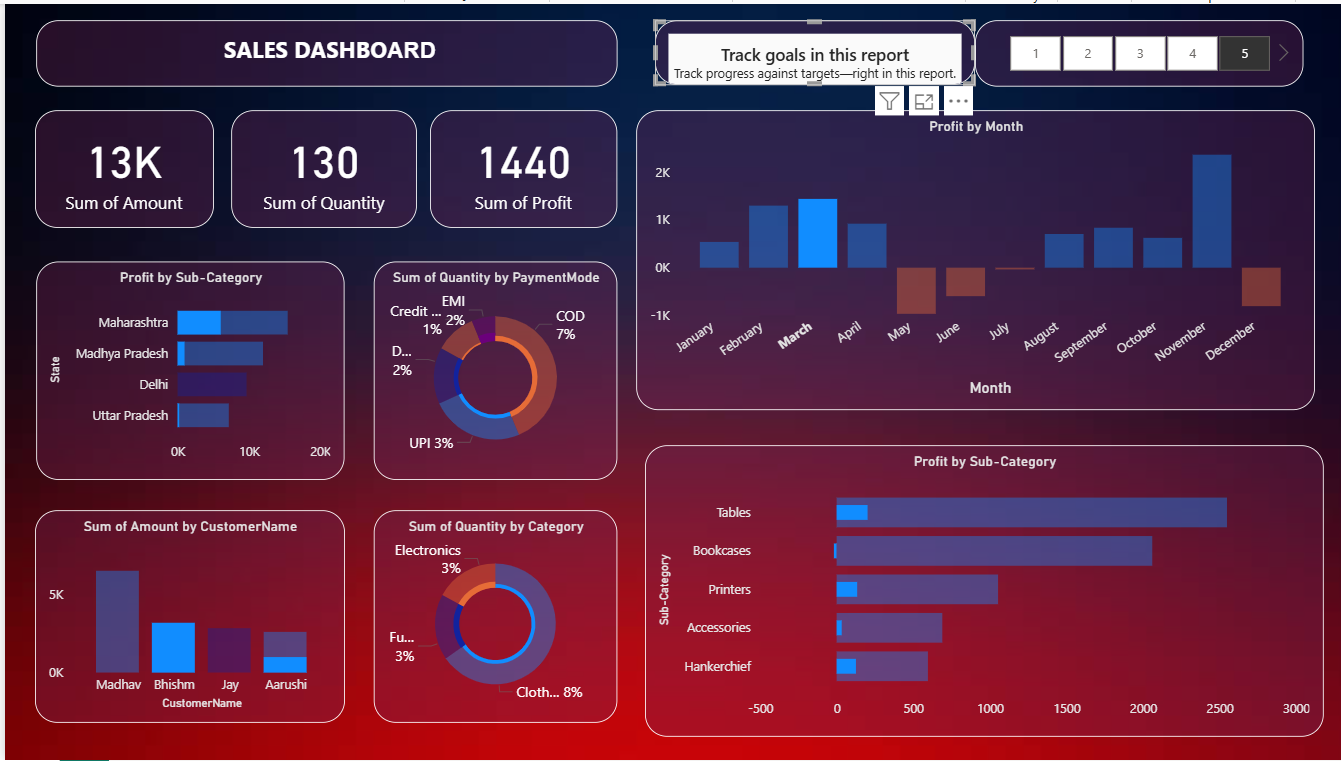

Layout of this report page (visuals, bound fields, positions):
{"tool":"powerbi","page":{"name":"Page 1","canvas":[1280,720],"ordinal":0},"visuals":[{"type":"textbox","box":[29.5,15.4,553.8,62.8],"z":0},{"type":"columnChart","title":"Profit by Month","fields":{"Category":["Orders.Order Date.Variation.Date Hierarchy.Month"],"Y":["Sum(Details.Profit)"]},"box":[601,101.5,646.3,285.4],"z":1000},{"type":"barChart","title":"Profit by Sub-Category","fields":{"Y":["Sum(Details.Profit)"],"Category":["Details.Sub-Category"]},"box":[610,420,646.2,277.5],"z":2000},{"type":"donutChart","fields":{"Category":["Details.Category"],"Y":["Sum(Details.Quantity)"]},"box":[351.3,482.1,232.1,202.6],"z":3000},{"type":"donutChart","fields":{"Y":["Sum(Details.Quantity)"],"Category":["Details.PaymentMode"]},"box":[351.3,244.9,232.1,207.7],"z":4000},{"type":"card","fields":{"Values":["Sum(Details.Amount)"]},"box":[28.3,101.7,170,111.7],"z":5000},{"type":"card","fields":{"Values":["Sum(Details.Quantity)"]},"box":[215,101.7,176.7,111.7],"z":6000},{"type":"card","fields":{"Values":["Sum(Details.Profit)"]},"box":[405,101.7,178.3,111.7],"z":7000},{"type":"barChart","title":"Profit by Sub-Category","fields":{"Y":["Sum(Details.Amount)"],"Category":["Orders.State"]},"box":[29.5,244.9,293.6,207.7],"z":8000},{"type":"columnChart","fields":{"Category":["Orders.CustomerName"],"Y":["Sum(Details.Amount)"]},"box":[28.2,482.1,294.9,202.6],"z":9000},{"type":"scorecard","box":[619.1,15.5,304.8,61.9],"z":10000},{"type":"slicer","fields":{"Values":["Details.Quantity"]},"box":[924.4,15.4,312.8,62.8],"z":11000}]}

Visuals, with their boxes in screenshot pixels (x1, y1, x2, y2):
textbox: select_region(1, 0, 616, 69)
"Profit by Month" columnChart: select_region(636, 95, 1340, 412)
"Profit by Sub-Category" barChart: select_region(646, 449, 1340, 757)
donutChart - Details.Category x Sum(Details.Quantity): select_region(359, 518, 616, 743)
donutChart - Sum(Details.Quantity) x Details.PaymentMode: select_region(359, 255, 616, 485)
card - Sum(Details.Amount): select_region(0, 95, 189, 220)
card - Sum(Details.Quantity): select_region(207, 95, 404, 220)
card - Sum(Details.Profit): select_region(418, 95, 616, 220)
"Profit by Sub-Category" barChart: select_region(1, 255, 327, 485)
columnChart - Orders.CustomerName x Sum(Details.Amount): select_region(0, 518, 327, 743)
scorecard: select_region(656, 0, 995, 68)
slicer - Details.Quantity: select_region(995, 0, 1340, 69)
